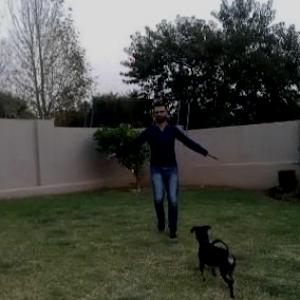land: (88, 99, 220, 258)
